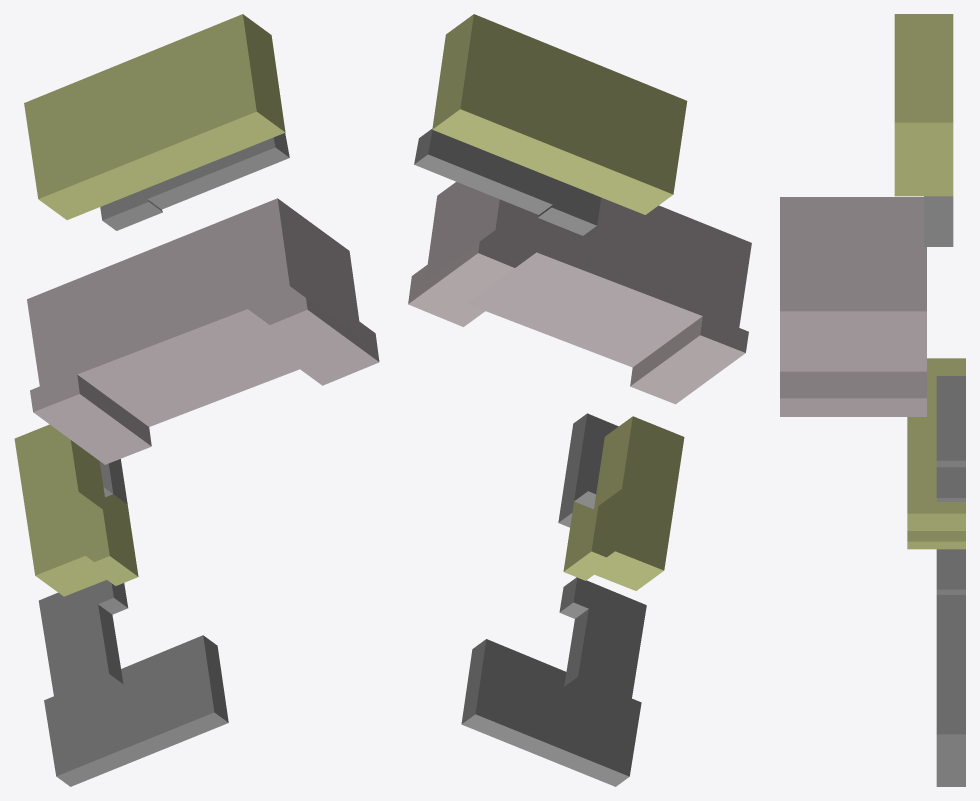
3 views of the same model, side by side, from view 1: azimuth 30°, elevation 25°; view 2: azimuth 150°, elevation 25°; view 3: azimuth 270°, elevation 25° (orthographic). The views are drawn at different scales.
Visible parts, largest first — view 1: 0_0_3_2_1_0_3_1; view 2: 0_0_3_2_1_0_3_1; view 3: 0_0_3_2_1_0_3_1.
Boxes of the visible parts, x1,y1,x2,y2 form: 0_0_3_2_1_0_3_1: (14, 14, 379, 786); 0_0_3_2_1_0_3_1: (408, 14, 751, 786); 0_0_3_2_1_0_3_1: (780, 14, 965, 786).
Bounding box in the file's own units: 33.77 × 83.14 × 19.
